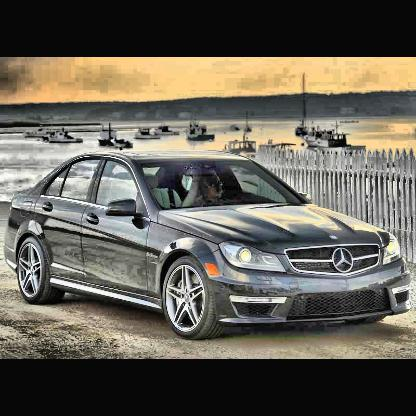Mercedes-Benz C-Class Sedan 2012: (5, 148, 413, 341)
